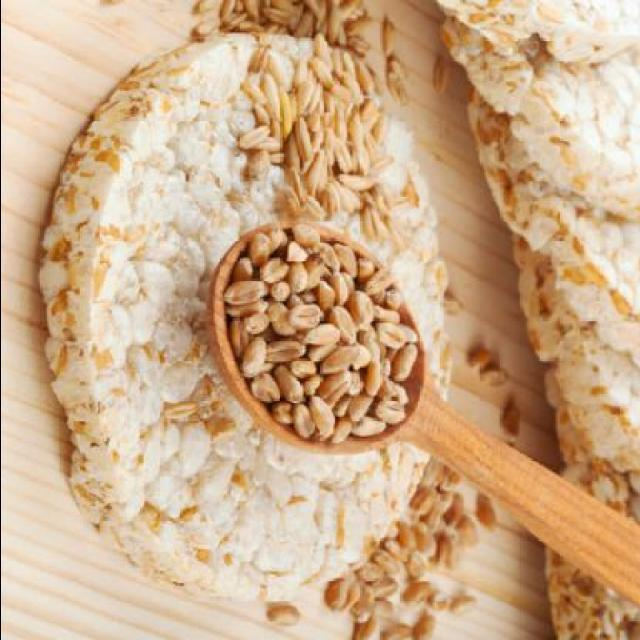Gallette di riso packaged: (32, 40, 450, 606)
